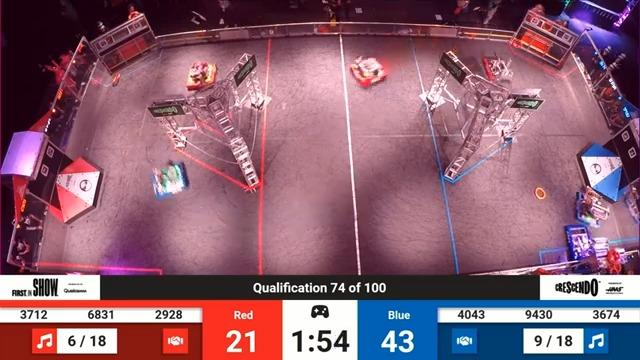robot: (146, 158, 193, 202), (575, 186, 611, 227), (558, 223, 596, 261), (348, 52, 386, 88), (184, 59, 220, 89), (482, 53, 517, 82)
